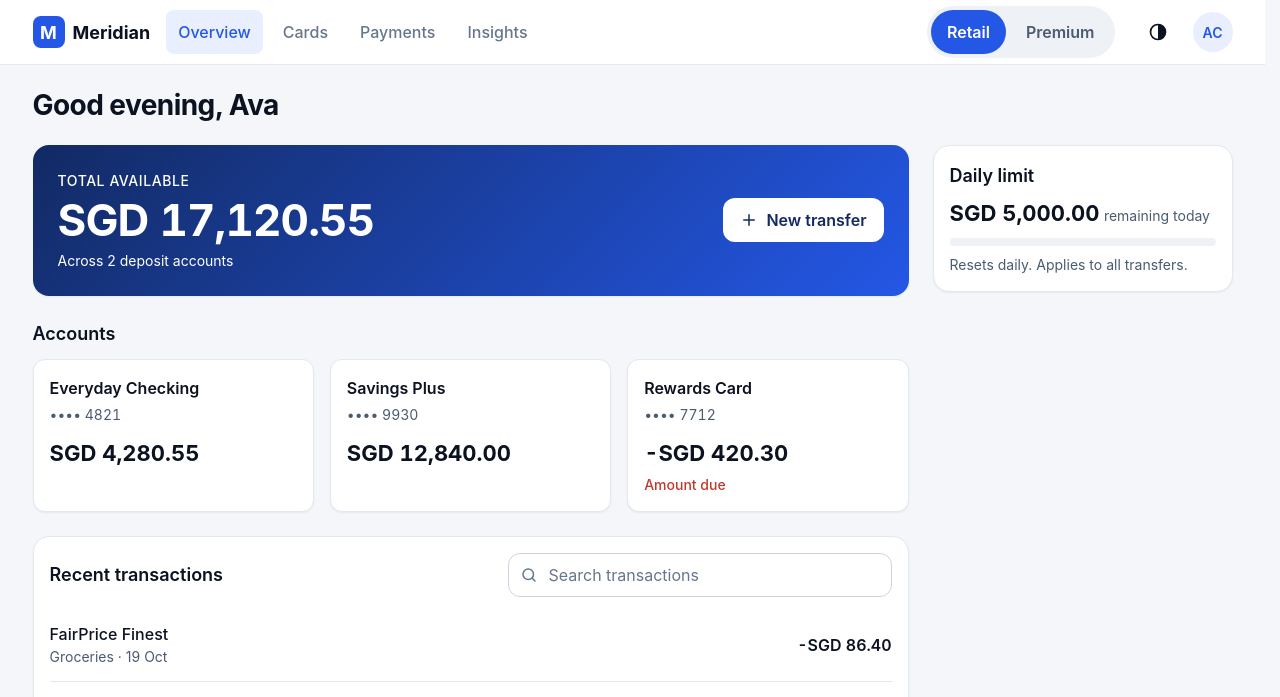
Test: transfer dialog › lets the payee list be used with the keyboard
Expected: the heading "Good evening, Ava" is shown, [32, 89, 279, 121]
Click the button "New transfer" at (803, 220), box [723, 198, 884, 242]
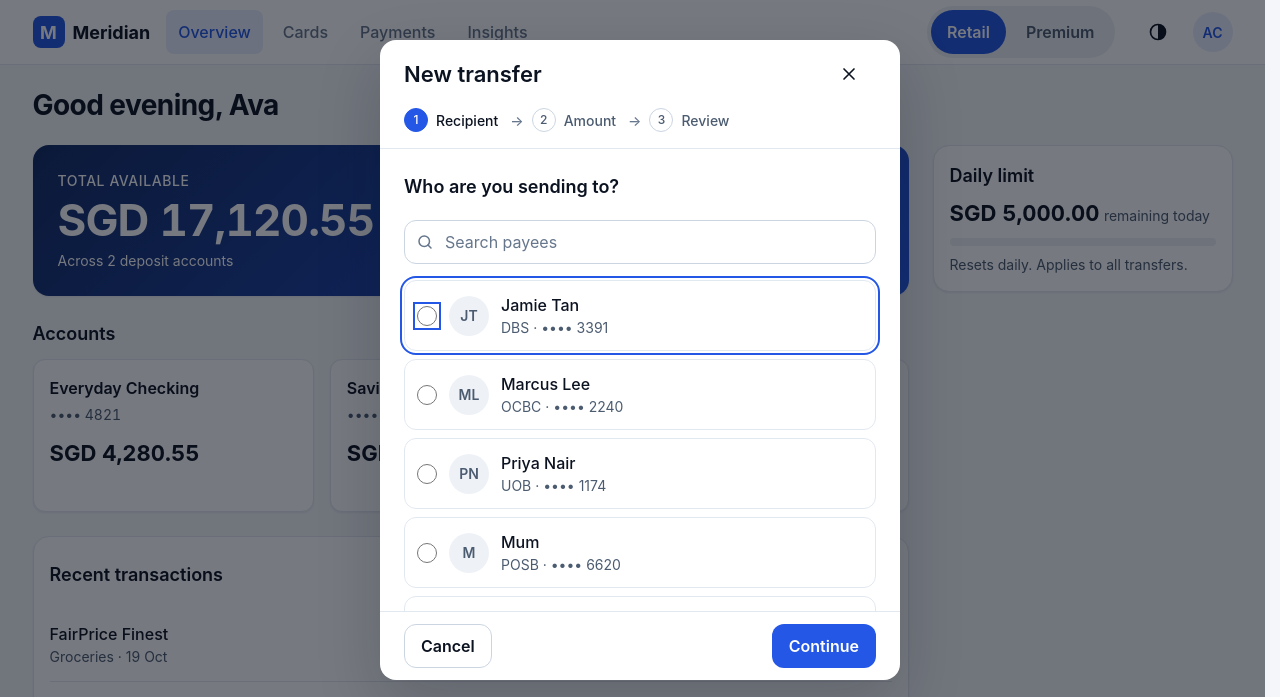
Press Arrowdown
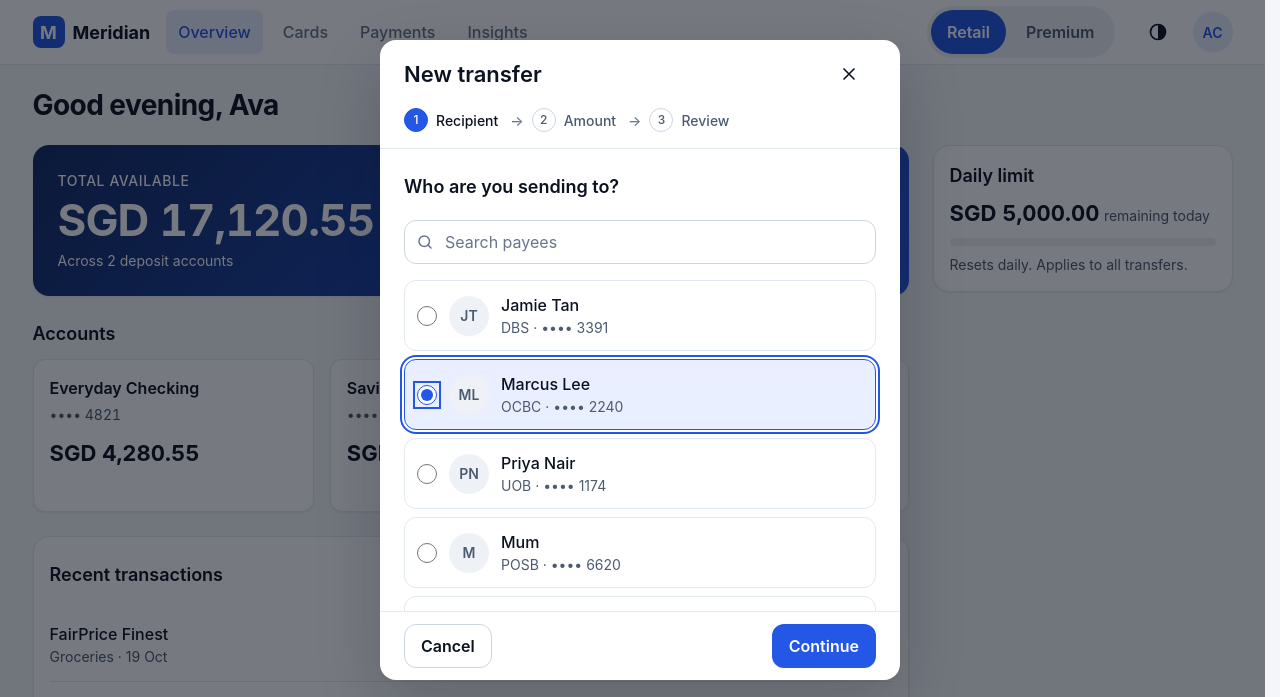
Expected: the radio button labelled "JT Jamie Tan DBS · •••• 3391" is not checked, [417, 306, 437, 326]
Expected: the radio button labelled "ML Marcus Lee OCBC · •••• 2240" is checked, [417, 384, 437, 404]
Press Tab
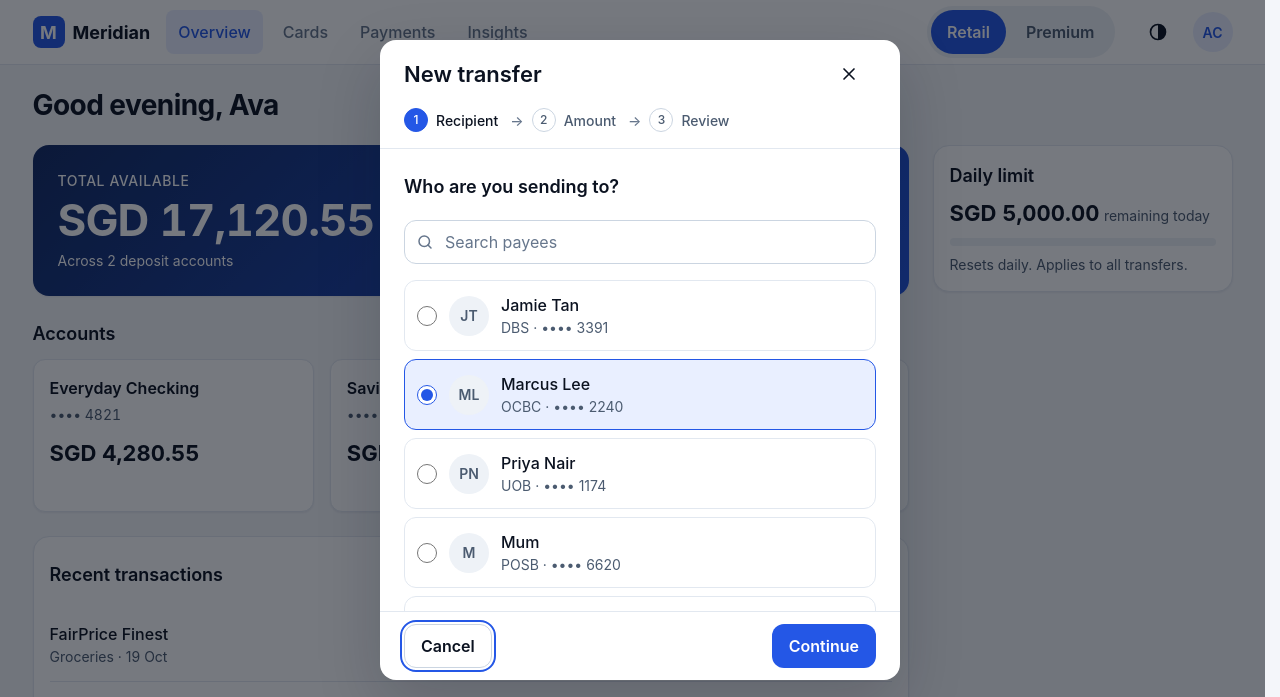
Press Tab
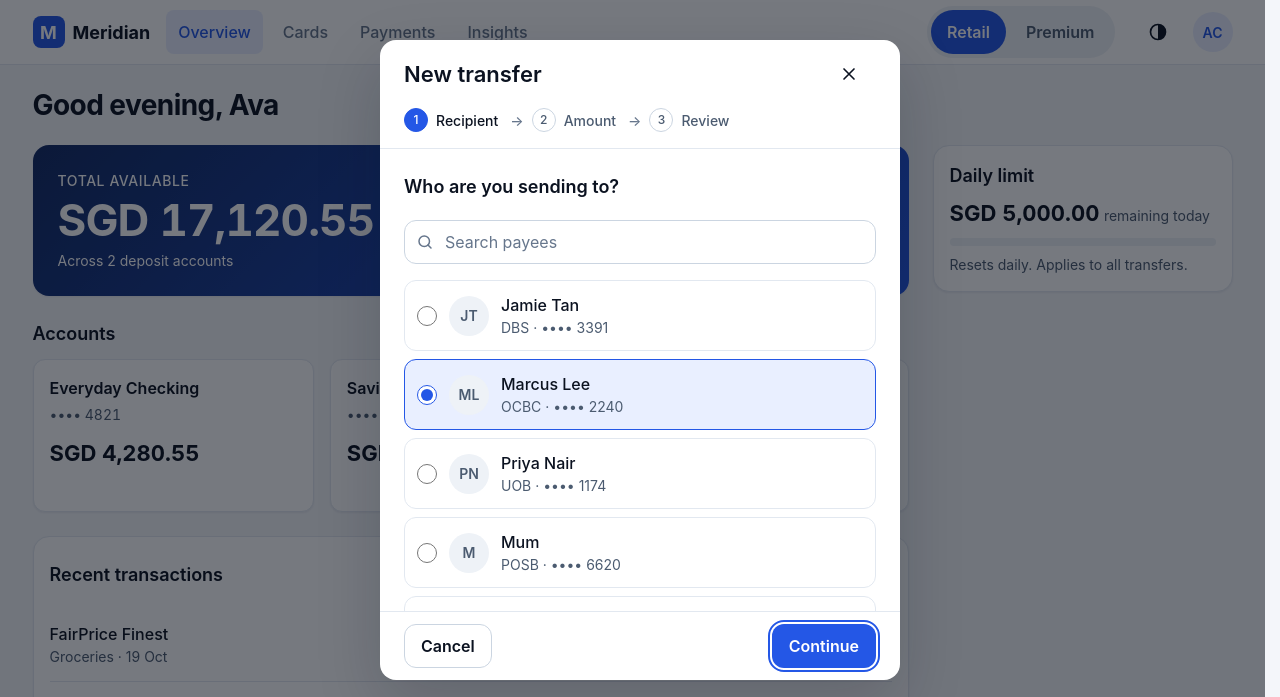
Press Enter
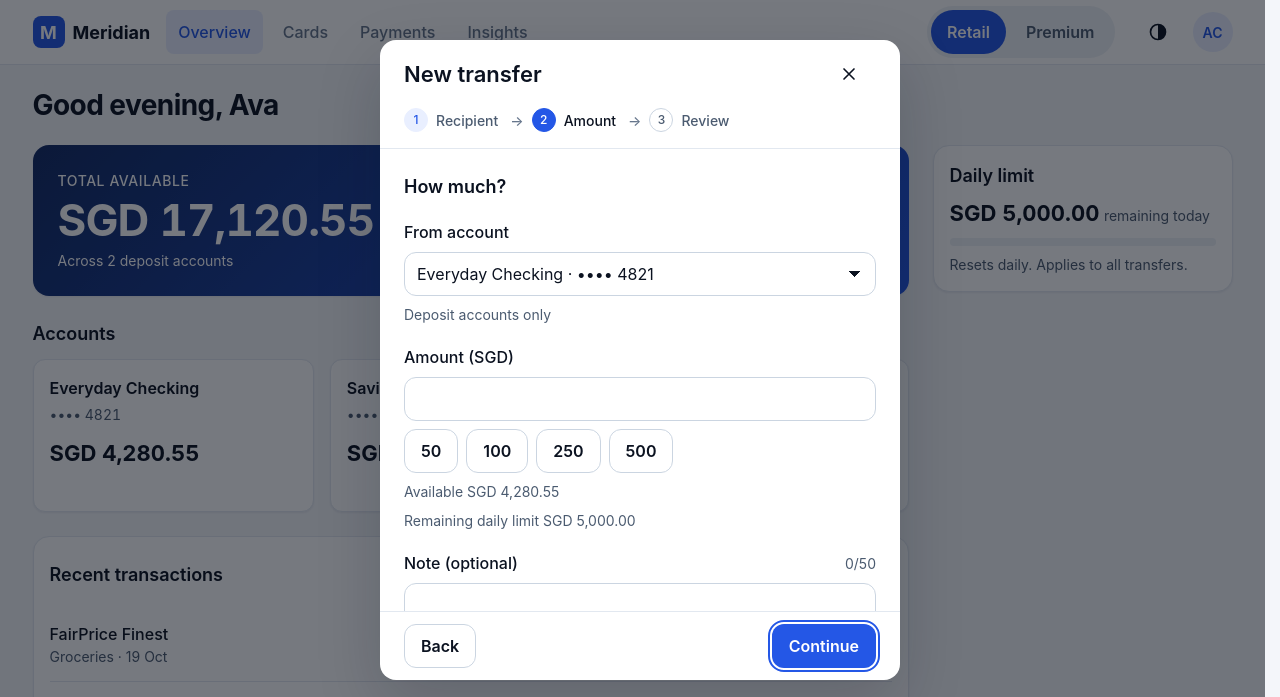
Expected: the heading "How much?" is shown, [404, 176, 506, 197]
